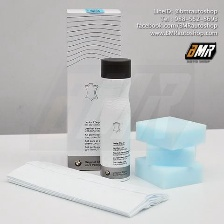book: (63, 6, 123, 173)
cleaning_solution: (97, 56, 133, 182)
